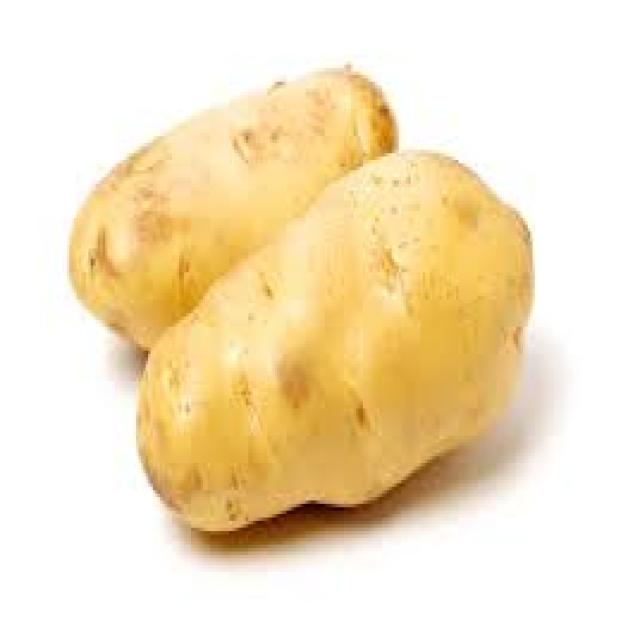potato: (139, 154, 535, 534), (72, 64, 394, 338)
